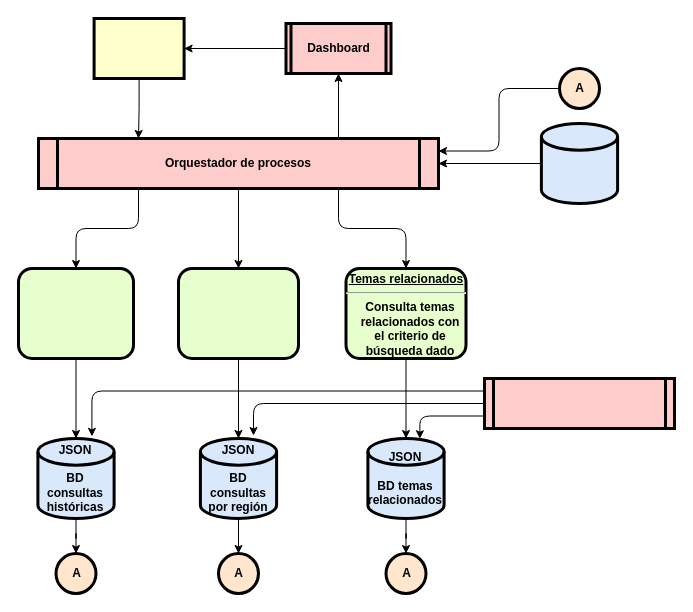
This 693x612 diagram has some shape labels left out. The centre of each missing label's shape, as x and y in pixels:
"Consulta H istórica Consulta interés anual de criterios de búsqueda" belongs at pixel 75 313.
"Consulta Región Consulta interés por región de criterios de búsqueda" belongs at pixel 238 313.
"Generador de respaldos" belongs at pixel 579 403.
"TXT Criterios de búsqueda" belongs at pixel 579 163.
"Usuario" belongs at pixel 138 48.
